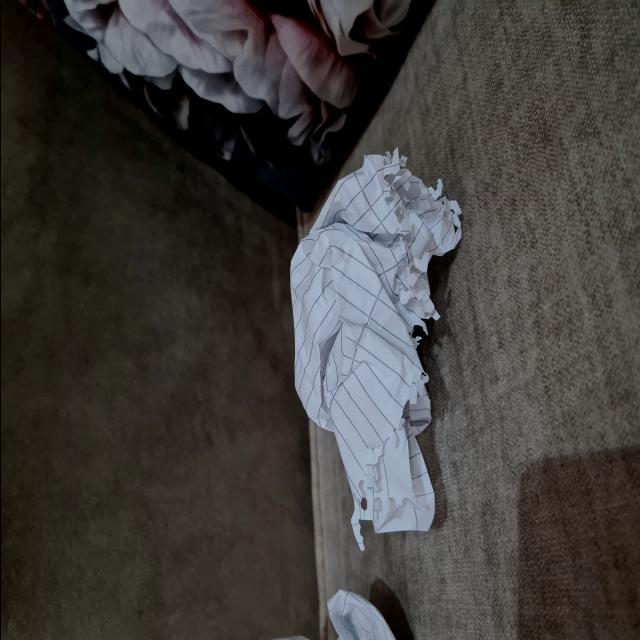Paper: (279, 148, 470, 544)
